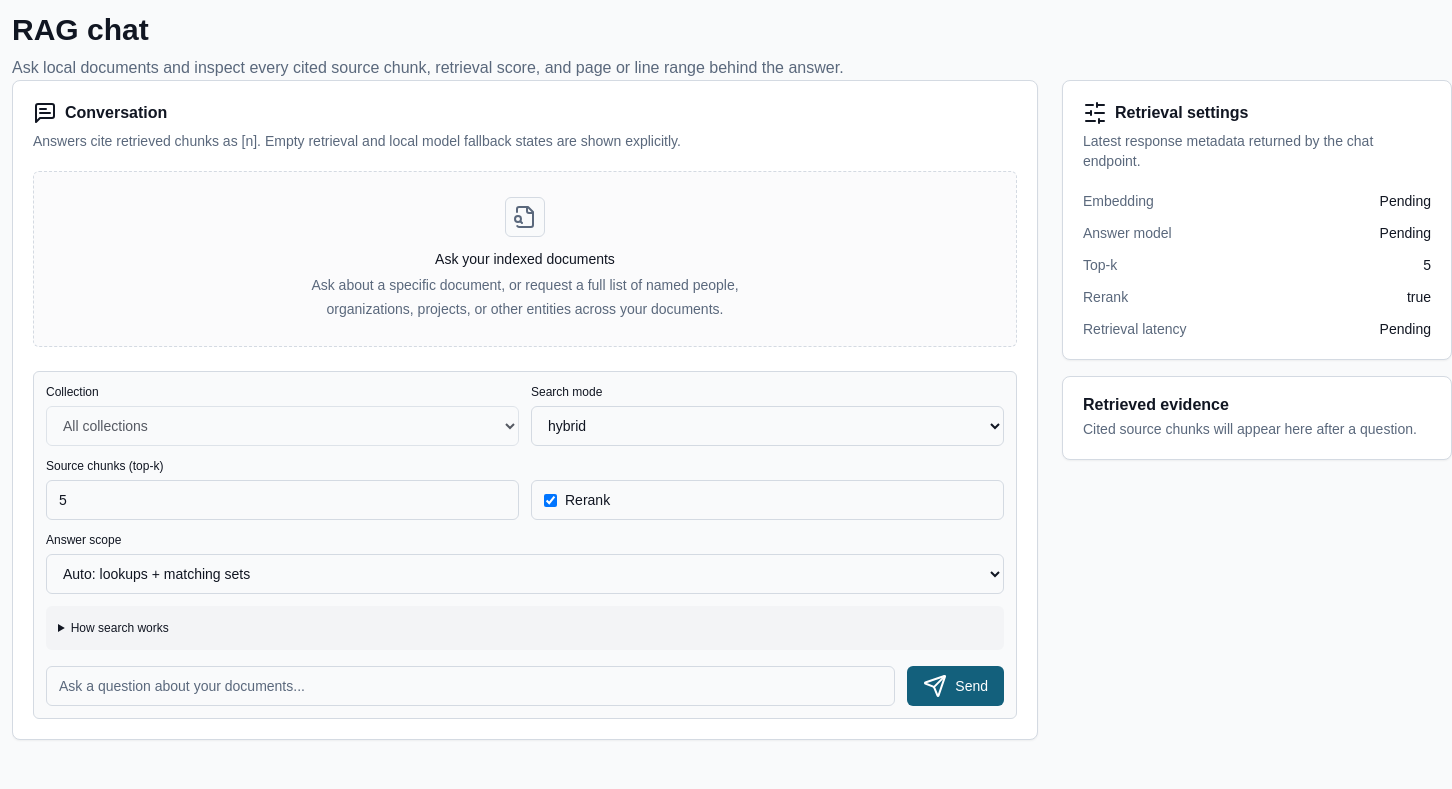
Scenario: retrieval and citation reporting › reports a rejected invalid citation as an extractive fallback
Type "What is validated?" into the field with placeholder "Ask a question about your documents...".
click(471, 686); type("What is validated?")  # box top-left (46, 666), bottom-right (895, 706)
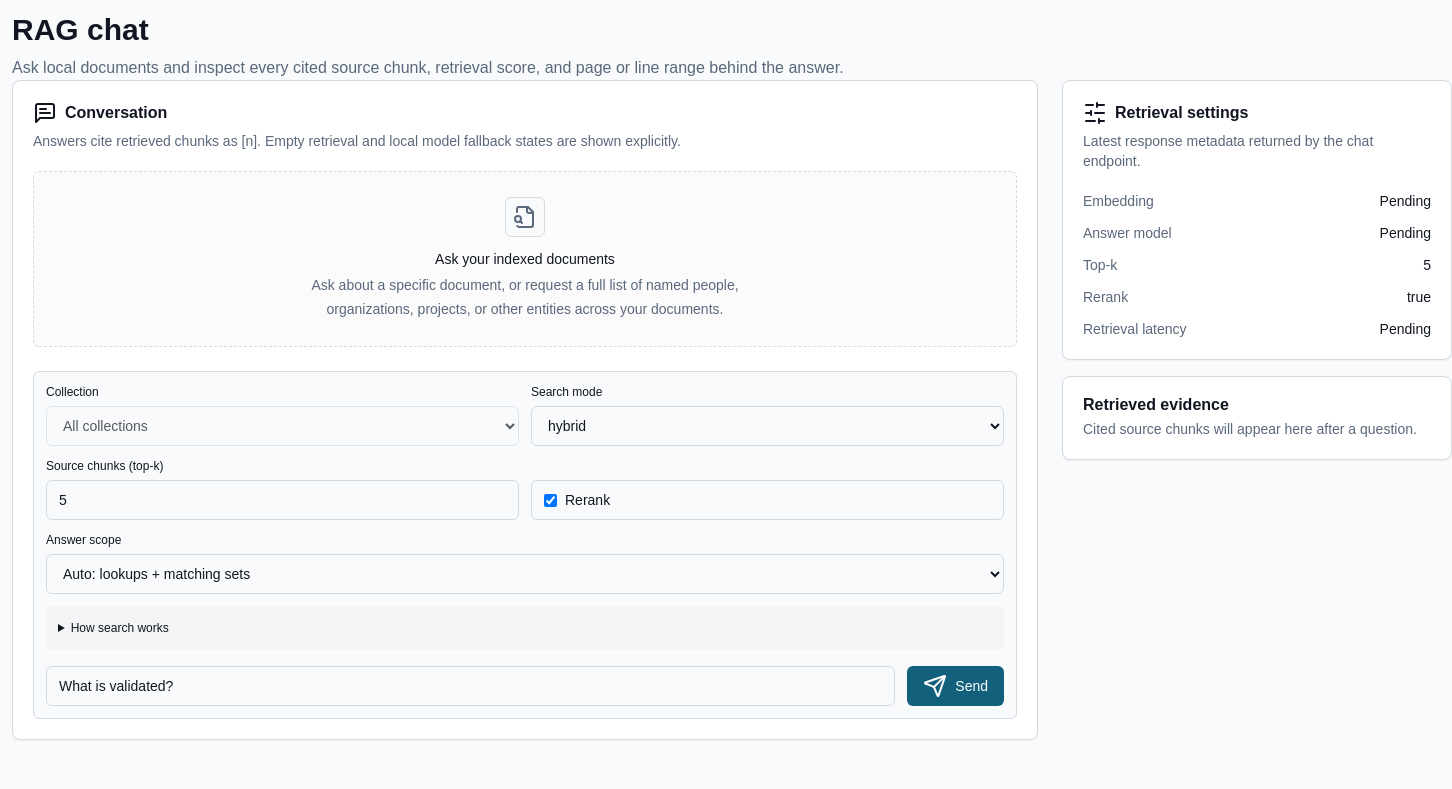
Click the button "Send".
click(956, 686)  # box top-left (907, 666), bottom-right (1004, 706)
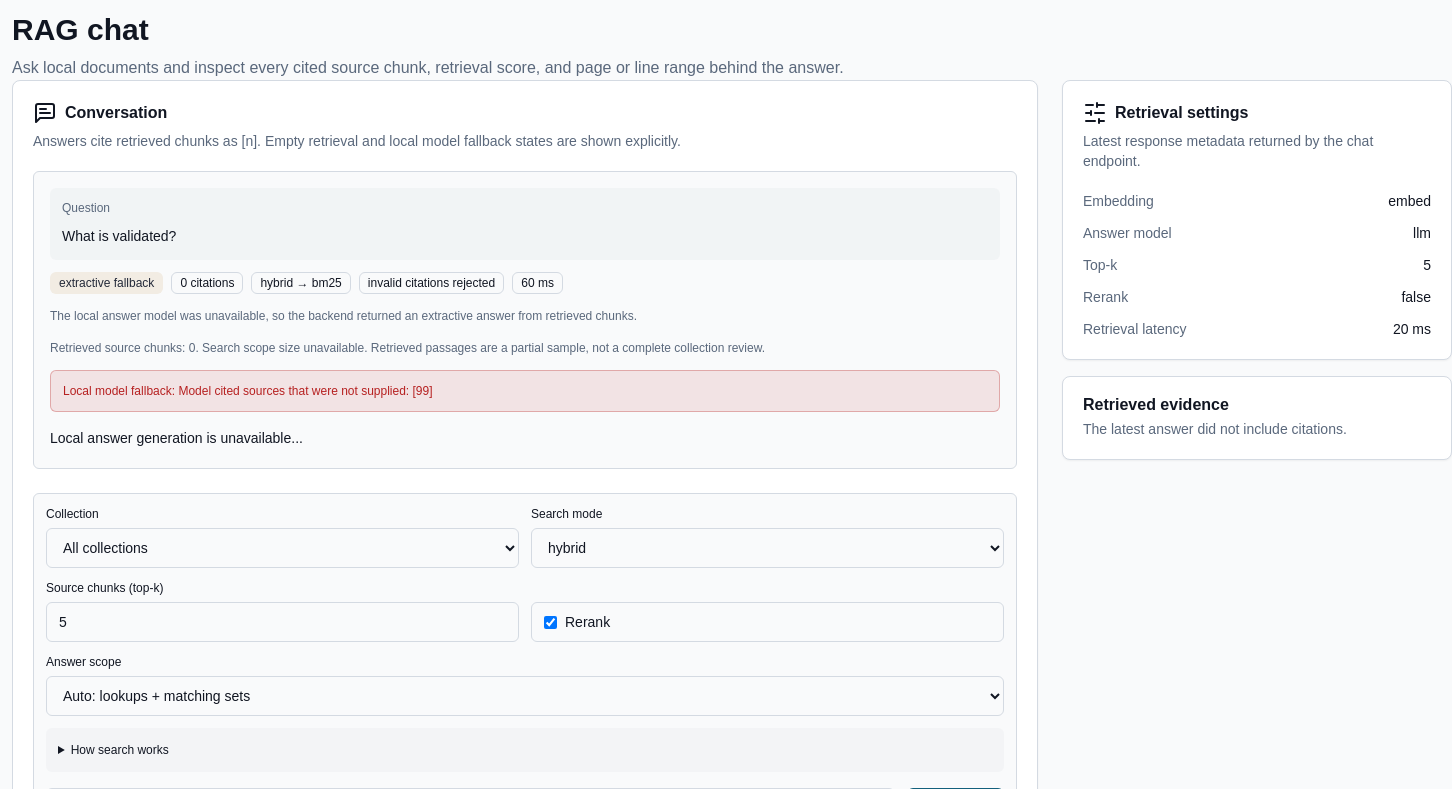
Expected: the text "invalid citations rejected" is shown, top-left (359, 272), bottom-right (504, 294)
Expected: the text "not supplied: [99]" is shown, top-left (178, 384), bottom-right (433, 398)
